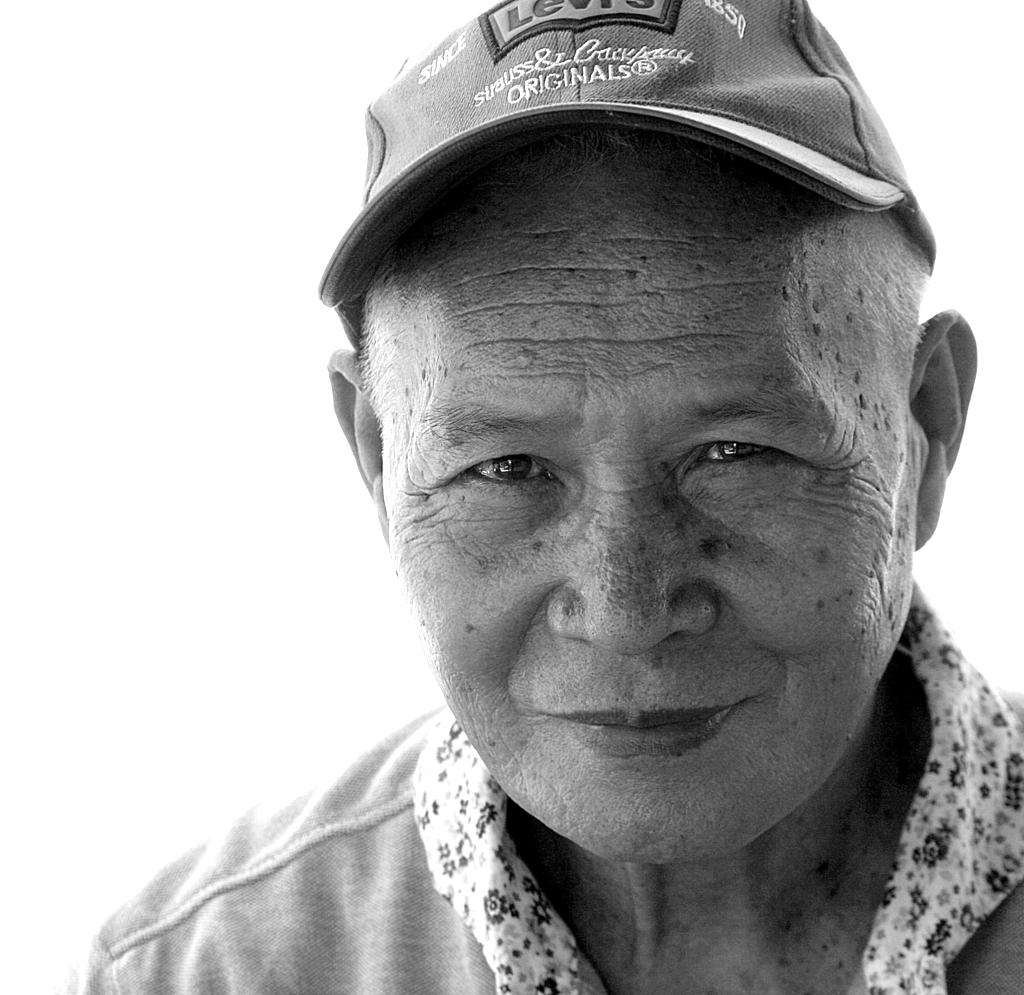Hat: (318, 0, 936, 341)
